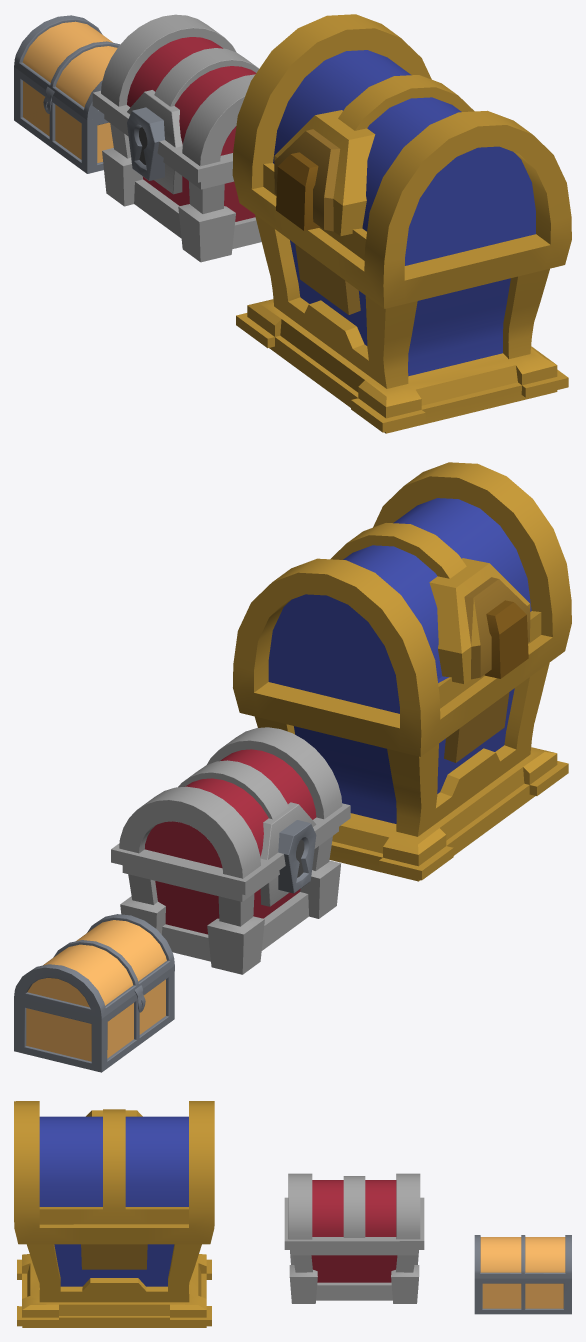
File: TreasureChestsColored.fbx
3 renders of one model, top to bottom at view 1: azimuth 30°, elevation 25°; view 2: azimuth 150°, elevation 25°; view 3: azimuth 270°, elevation 25°, orthographic. The views are drawn at different scales.
Visible parts, largest first — view 1: SM_HighValuePickup, SM_MidValuePickup, SM_LowValuePickup; view 2: SM_HighValuePickup, SM_MidValuePickup, SM_LowValuePickup; view 3: SM_HighValuePickup, SM_MidValuePickup, SM_LowValuePickup.
Boxes of the visible parts, x1,y1,x2,y2 form: SM_HighValuePickup: (232,14,571,433); SM_MidValuePickup: (92,14,261,262); SM_LowValuePickup: (14,15,119,173); SM_HighValuePickup: (233,462,571,881); SM_MidValuePickup: (111,727,350,974); SM_LowValuePickup: (14,914,174,1072); SM_HighValuePickup: (14,1101,214,1327); SM_MidValuePickup: (284,1173,424,1303); SM_LowValuePickup: (474,1235,571,1314).
Size of the model in its own units: 140 by 188 by 493.
